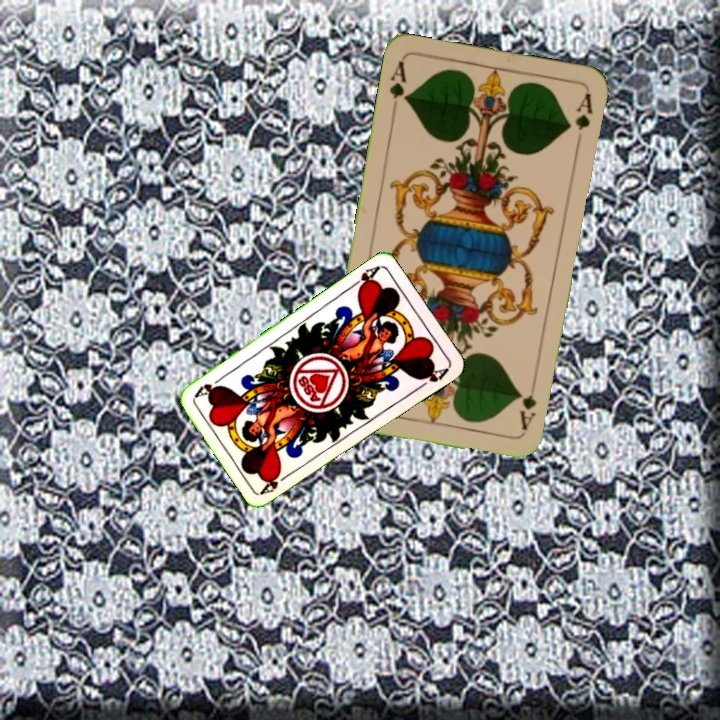GA: (385, 57, 411, 116), (516, 375, 540, 433)
HA: (346, 262, 382, 294), (257, 469, 294, 497)
